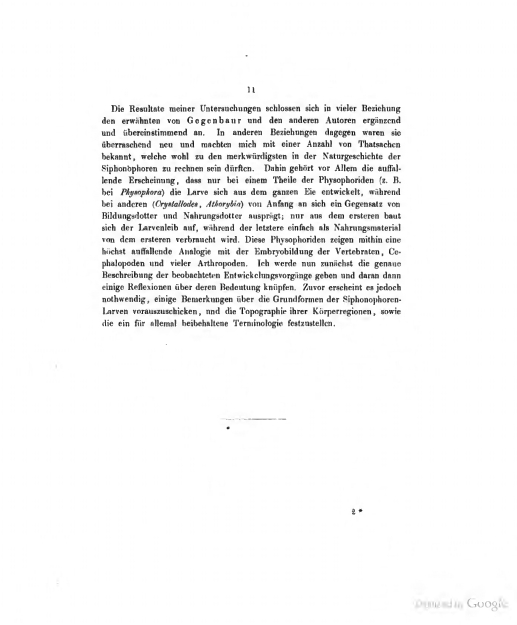MainZone: (93, 99, 420, 337)
NoiseZone: (402, 584, 517, 625)
NumberingZone_page: (240, 80, 266, 98)
